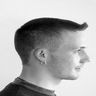ear: (31, 44, 53, 68)
